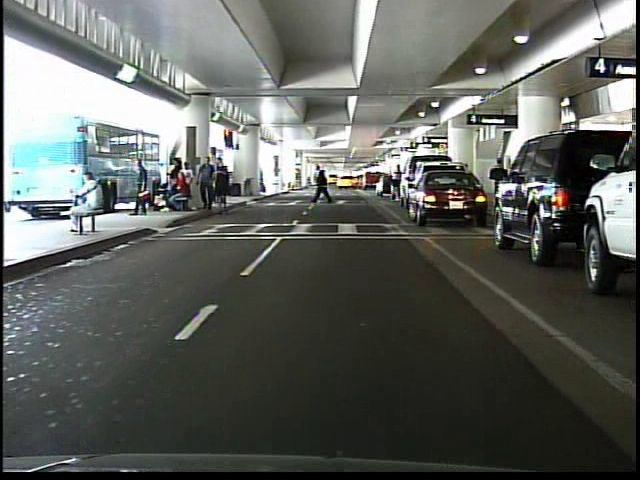person: (58, 164, 106, 237), (126, 152, 153, 219), (312, 163, 336, 208), (389, 162, 402, 201)
